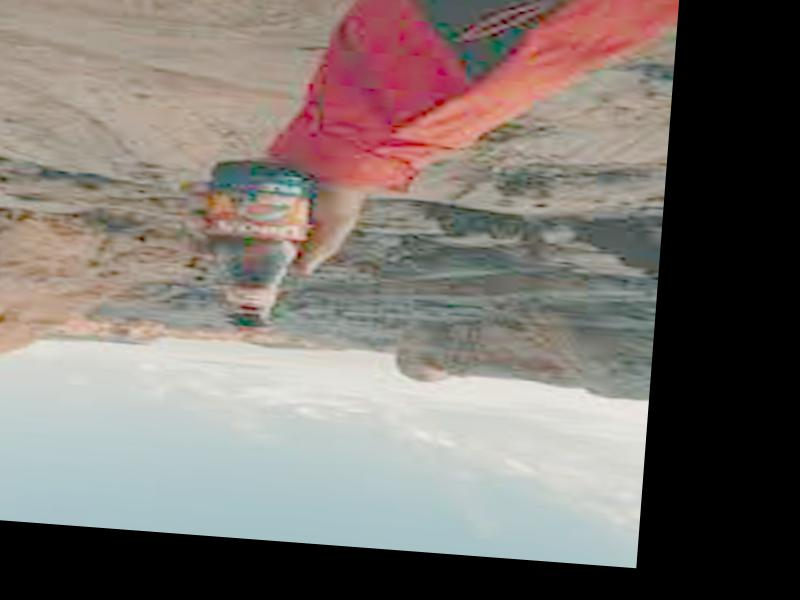Beer: (194, 159, 323, 333)
